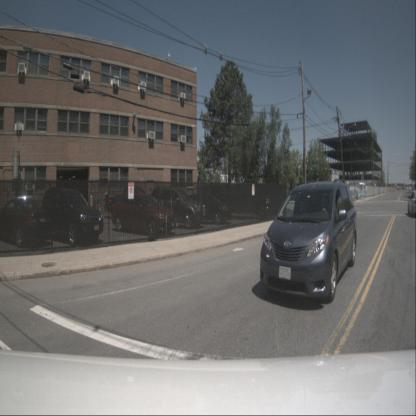vehicle-car: (259, 181, 357, 303), (41, 188, 104, 247), (111, 192, 178, 238), (0, 196, 54, 249), (149, 186, 206, 230), (183, 191, 233, 225), (408, 190, 416, 217)
vehicle-truck: (105, 186, 159, 218)
